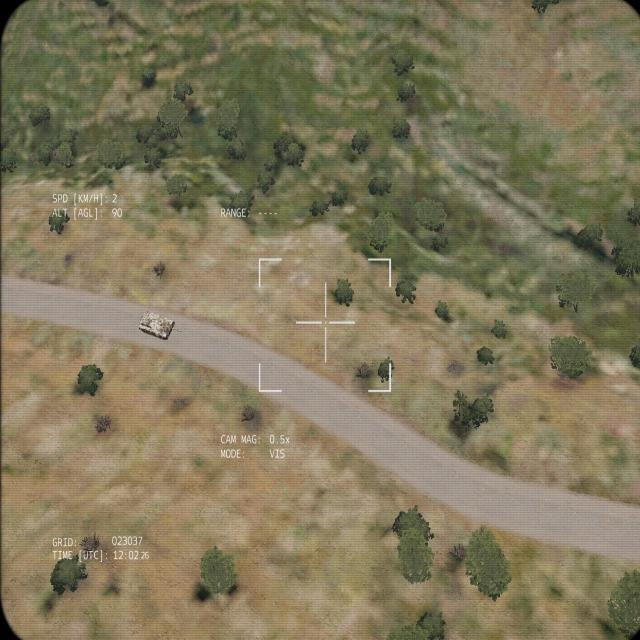tank: (139, 310, 181, 340)
